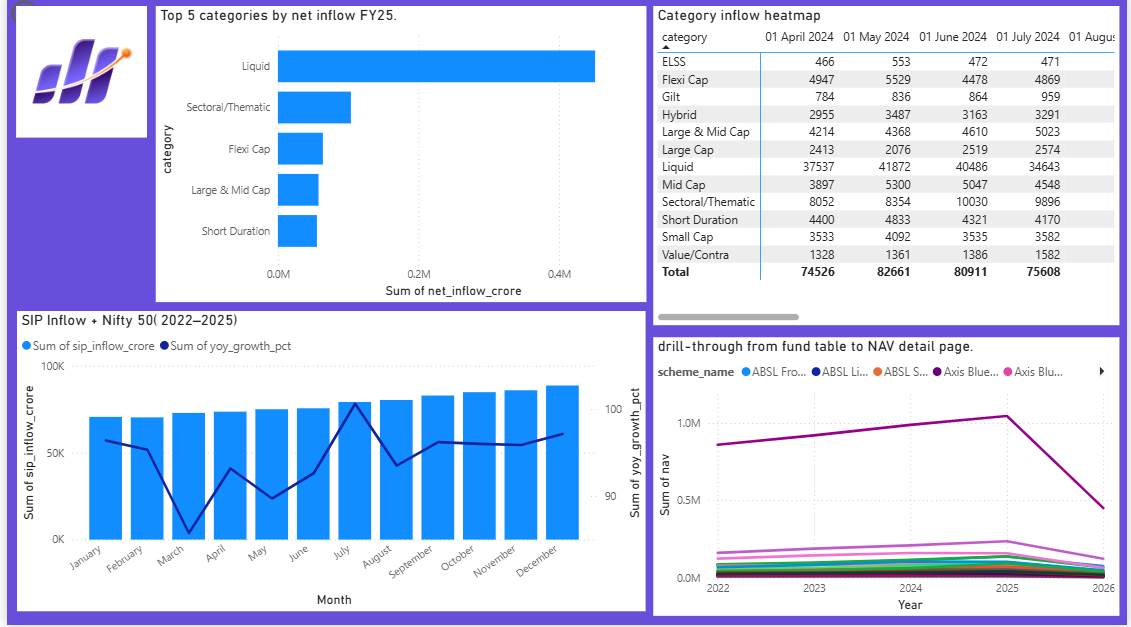

This screenshot's page, from the dashboard's own definition file:
{"tool":"powerbi","page":{"name":" SIP & Market Trends","canvas":[1280,720],"ordinal":1},"visuals":[{"type":"lineChart","title":" drill-through from fund table to NAV detail page.","fields":{"Y":["Sum(02_nav_history.nav)"],"Series":["07_scheme_performance.scheme_name"],"Category":["02_nav_history.date.Variation.Date Hierarchy.Year"]},"box":[738.4,390.7,532.6,318.6],"z":0},{"type":"actionButton","box":[0,0,100,40],"z":1},{"type":"lineStackedColumnComboChart","title":"SIP Inflow + Nifty 50( 2022–2025)","fields":{"Category":["04_monthly_sip_inflows.month.Variation.Date Hierarchy.Month"],"Y":["Sum(04_monthly_sip_inflows.sip_inflow_crore)"],"Y2":["Sum(04_monthly_sip_inflows.yoy_growth_pct)"]},"box":[11.6,360.5,718.6,343],"z":2},{"type":"pivotTable","title":" Category inflow heatmap","fields":{"Rows":["05_category_inflows.category"],"Columns":["05_category_inflows.month"],"Values":["Sum(05_category_inflows.net_inflow_crore)"]},"box":[738.4,11.6,532.6,365.1],"z":3},{"type":"clusteredBarChart","title":"Top 5 categories by net inflow FY25.","fields":{"Category":["05_category_inflows.category"],"Y":["Sum(05_category_inflows.net_inflow_crore)"]},"box":[169.8,11.6,560.5,338.4],"z":4},{"type":"image","box":[0,11.4,170,150],"z":5}]}

Visuals, with their boxes in screenshot pixels (x1, y1, x2, y2), scaled from the page's 1280x720 canvas onto the 1131x627 screenshot:
" drill-through from fund table to NAV detail page." lineChart: (652, 340, 1123, 618)
actionButton: (0, 0, 88, 35)
"SIP Inflow + Nifty 50( 2022–2025)" lineStackedColumnComboChart: (10, 314, 645, 613)
" Category inflow heatmap" pivotTable: (652, 10, 1123, 328)
"Top 5 categories by net inflow FY25." clusteredBarChart: (150, 10, 645, 305)
image: (0, 10, 150, 141)
